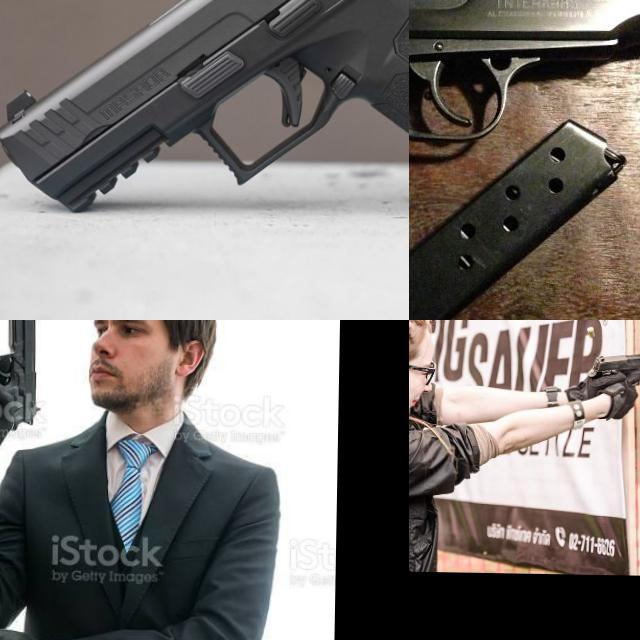handgun: (0, 0, 409, 226), (409, 0, 640, 320), (0, 320, 49, 439), (583, 348, 640, 382)
